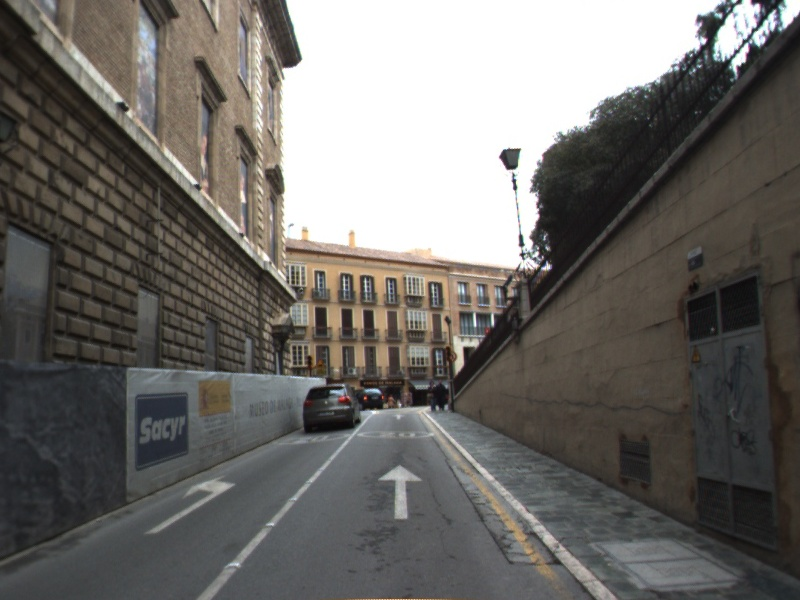LEFT: (141, 473, 238, 536)
STRAIGHT: (376, 463, 425, 521), (390, 413, 407, 421)
